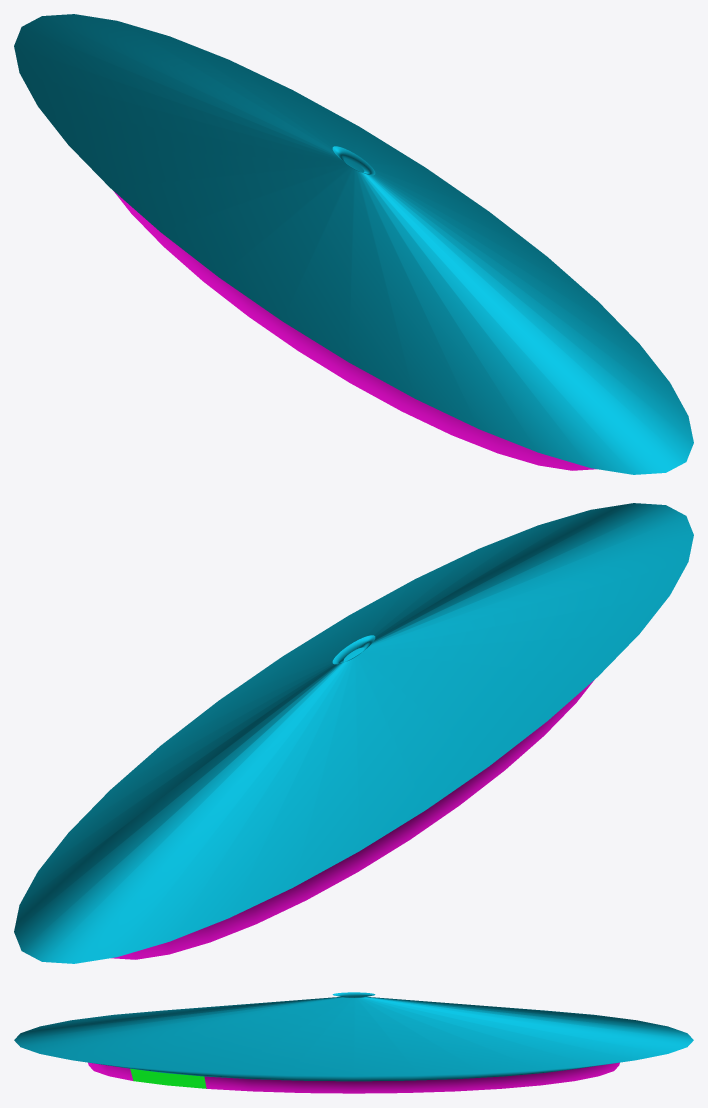
The model's file is chozaC.fbx.
3 views of the same model, one above another, from view 1: azimuth 30°, elevation 25°; view 2: azimuth 150°, elevation 25°; view 3: azimuth 270°, elevation 25° (orthographic). The views are drawn at different scales.
Visible parts, largest first — view 1: Cylinder; view 2: Cylinder; view 3: Cylinder.
Part boxes in pixels (x1,y1,x2,y2): Cylinder: (14,14,693,474); Cylinder: (14,503,693,963); Cylinder: (14,992,693,1093).
Bounding box in the file's own units: 5.59 × 2.58 × 22.37.
